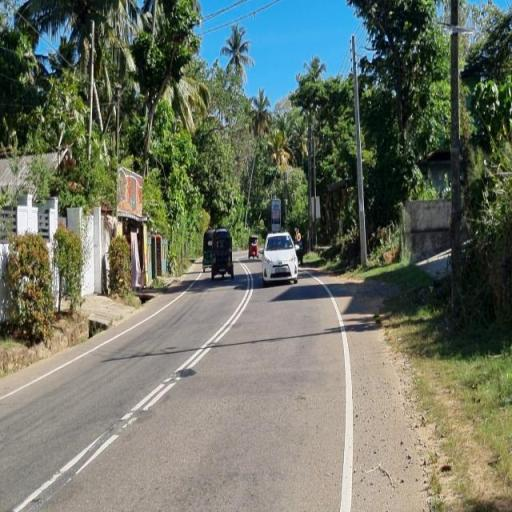double_white_line: (121, 262, 251, 430)
